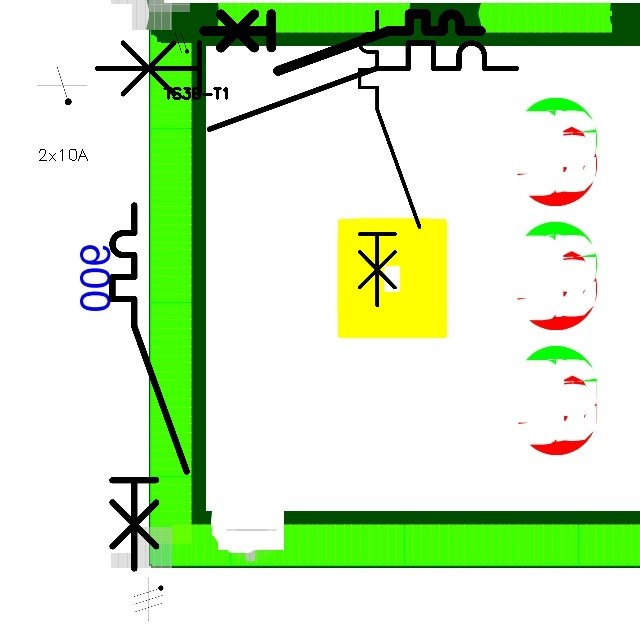interruptor_termomagnetico: (86, 32, 526, 140), (103, 196, 196, 578), (352, 4, 427, 313), (196, 7, 487, 78)
